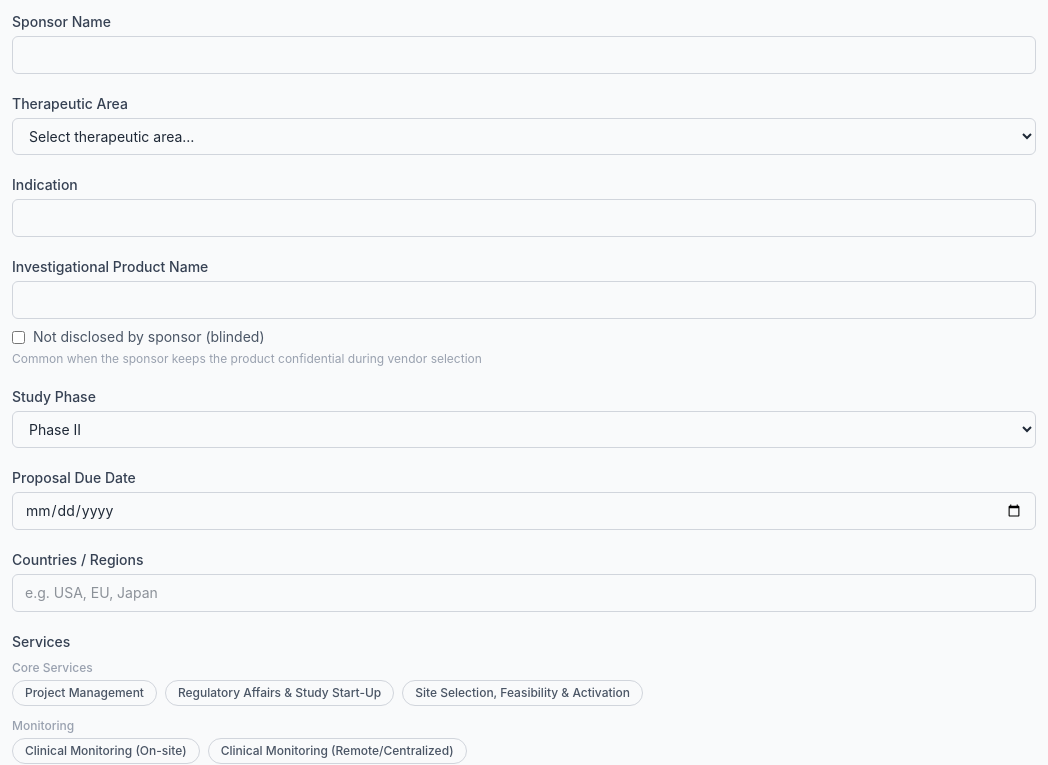
Test case: Step1StudyInfo — Study Phase Other › reveals a freetext input and clears the value when Other is selected
This screenshot has width=1048, height=765.
Select "Other" in the dropdown labelled "Study Phase" at (524, 430), box [12, 411, 1036, 448]
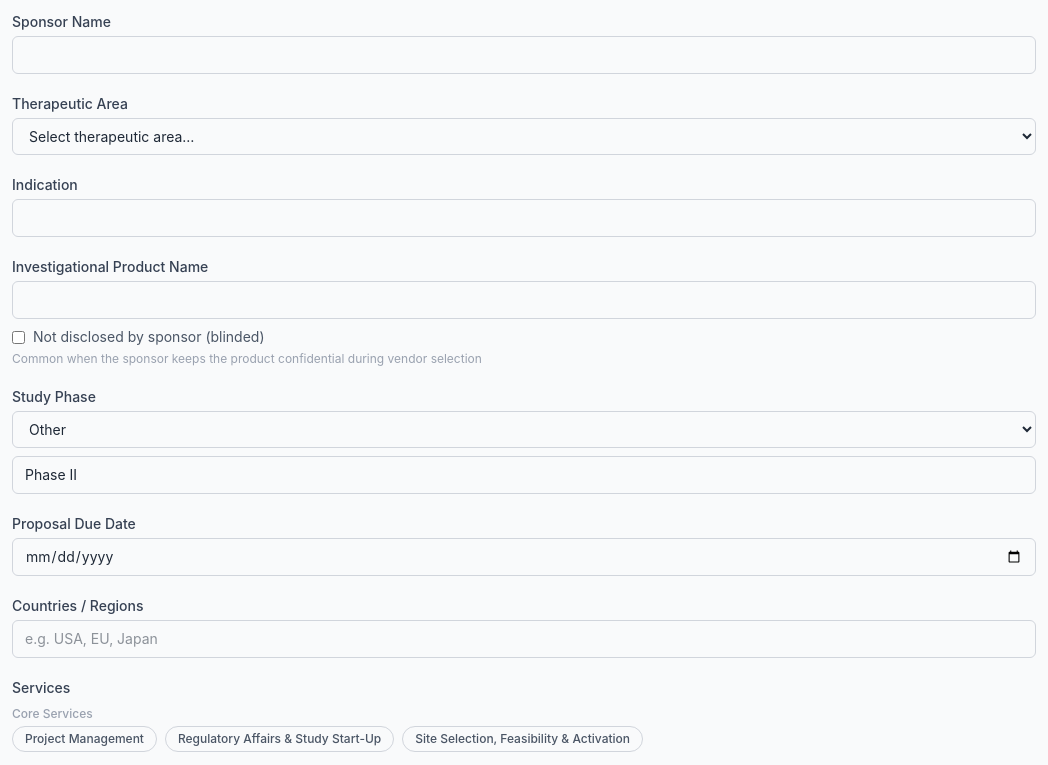
Expected: the field named "Custom Study Phase" is shown, [12, 456, 1036, 494]
